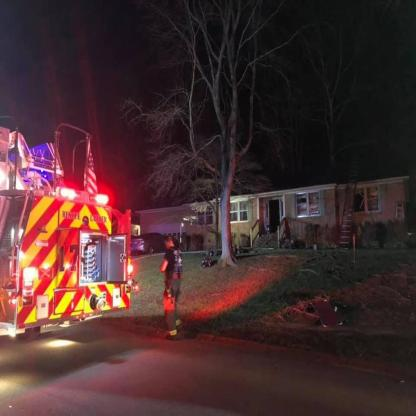other: (0, 166, 30, 199), (88, 182, 116, 210), (56, 178, 82, 205), (19, 260, 43, 286)
